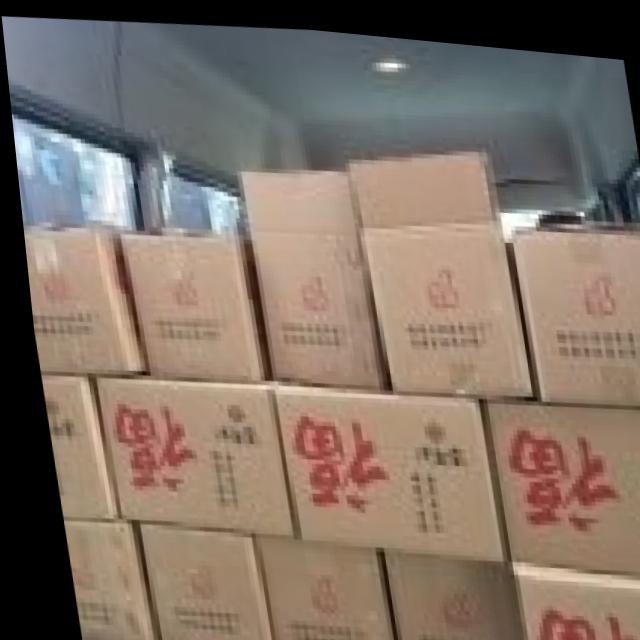box: (350, 143, 529, 387), (268, 377, 497, 552), (88, 369, 287, 535), (238, 164, 380, 379), (474, 386, 640, 564), (505, 219, 640, 394), (120, 224, 265, 376), (19, 219, 138, 375), (129, 523, 263, 640), (245, 534, 386, 640), (373, 545, 512, 640), (505, 553, 640, 640), (33, 375, 111, 518), (52, 521, 145, 640)
